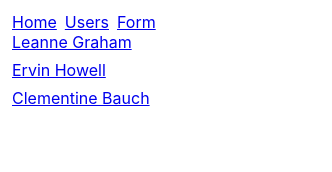
Test: test app › test redirect to user page
Click the link with test id "user-item" showing "Leanne Graham": (72, 42) [12,32,132,52]
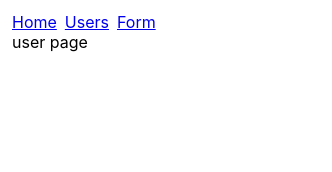
Now the text "user page" is shown, box [12,32,88,52]
